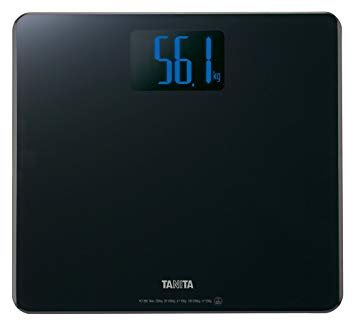LCD: (127, 29, 229, 92)
